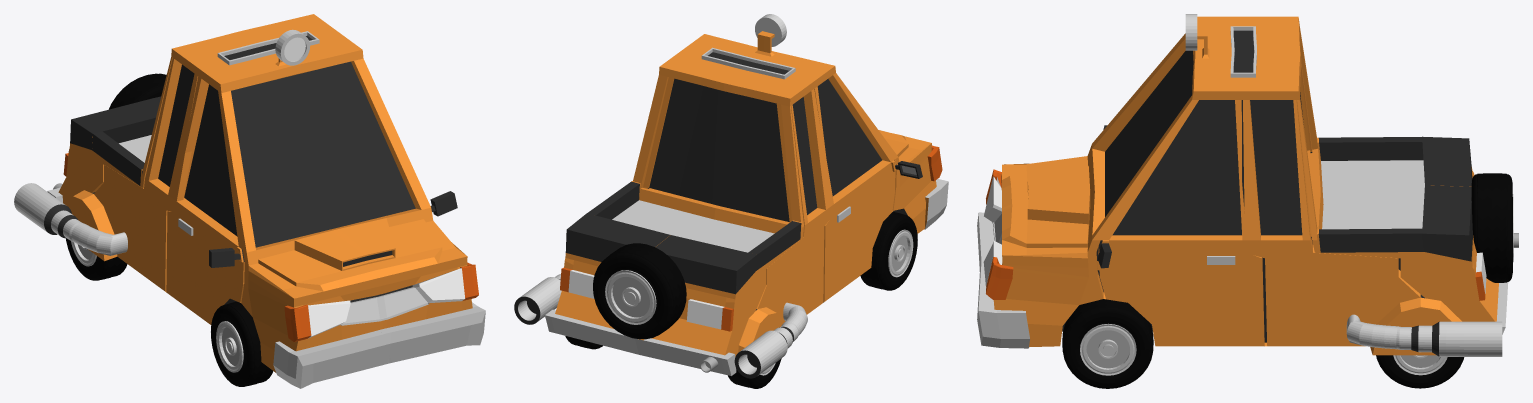
The model's file is CR-CARO-3B.fbx.
The picture shows the model from 3 angles, left to right: view 1: azimuth 30°, elevation 25°; view 2: azimuth 150°, elevation 25°; view 3: azimuth 270°, elevation 25°; orthographic projection. The views are drawn at different scales.
Visible parts, largest first — view 1: BODY, WHEEL.001, WHEEL.004, Back wheel; view 2: BODY, Back wheel, WHEEL.001, WHEEL.004; view 3: BODY, WHEEL.003, Back wheel, WHEEL.002.
Boxes of the visible parts, x1,y1,x2,y2 form: BODY: [14, 14, 485, 388]; WHEEL.001: [211, 301, 273, 386]; WHEEL.004: [66, 238, 127, 280]; Back wheel: [109, 73, 166, 109]; BODY: [514, 14, 948, 378]; Back wheel: [593, 243, 686, 339]; WHEEL.001: [860, 212, 917, 290]; WHEEL.004: [728, 358, 781, 388]; BODY: [977, 14, 1508, 356]; WHEEL.003: [1062, 299, 1153, 388]; Back wheel: [1471, 173, 1513, 282]; WHEEL.002: [1376, 355, 1464, 388].
Bounding box in the file's own units: 142 × 152 × 232.
